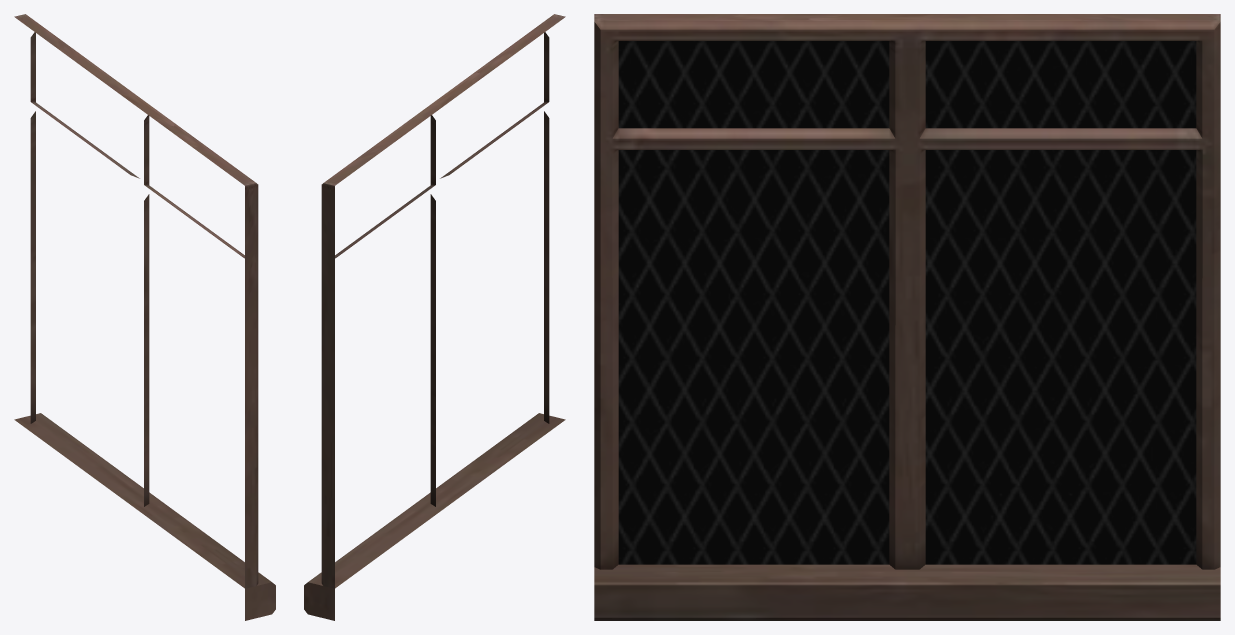
The picture shows the model from 3 angles, left to right: view 1: azimuth 30°, elevation 25°; view 2: azimuth 150°, elevation 25°; view 3: azimuth 270°, elevation 25°; orthographic projection. The views are drawn at different scales.
Visible parts, largest first — view 1: body0_model0_lod0_mesh1; view 2: body0_model0_lod0_mesh1; view 3: body0_model0_lod0_mesh0, body0_model0_lod0_mesh1.
Part boxes in pixels (<box>): body0_model0_lod0_mesh1: <box>14,14,275,620</box>; body0_model0_lod0_mesh1: <box>304,14,565,620</box>; body0_model0_lod0_mesh0: <box>618,41,1196,564</box>; body0_model0_lod0_mesh1: <box>594,14,1220,620</box>.
Bounding box in the file's own units: 8 × 108 × 104.
Materials: 2 (2 with a texture image).
